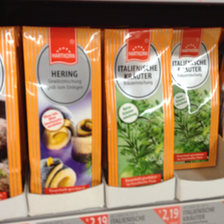spicesw: (22, 24, 101, 195), (104, 28, 174, 189)
